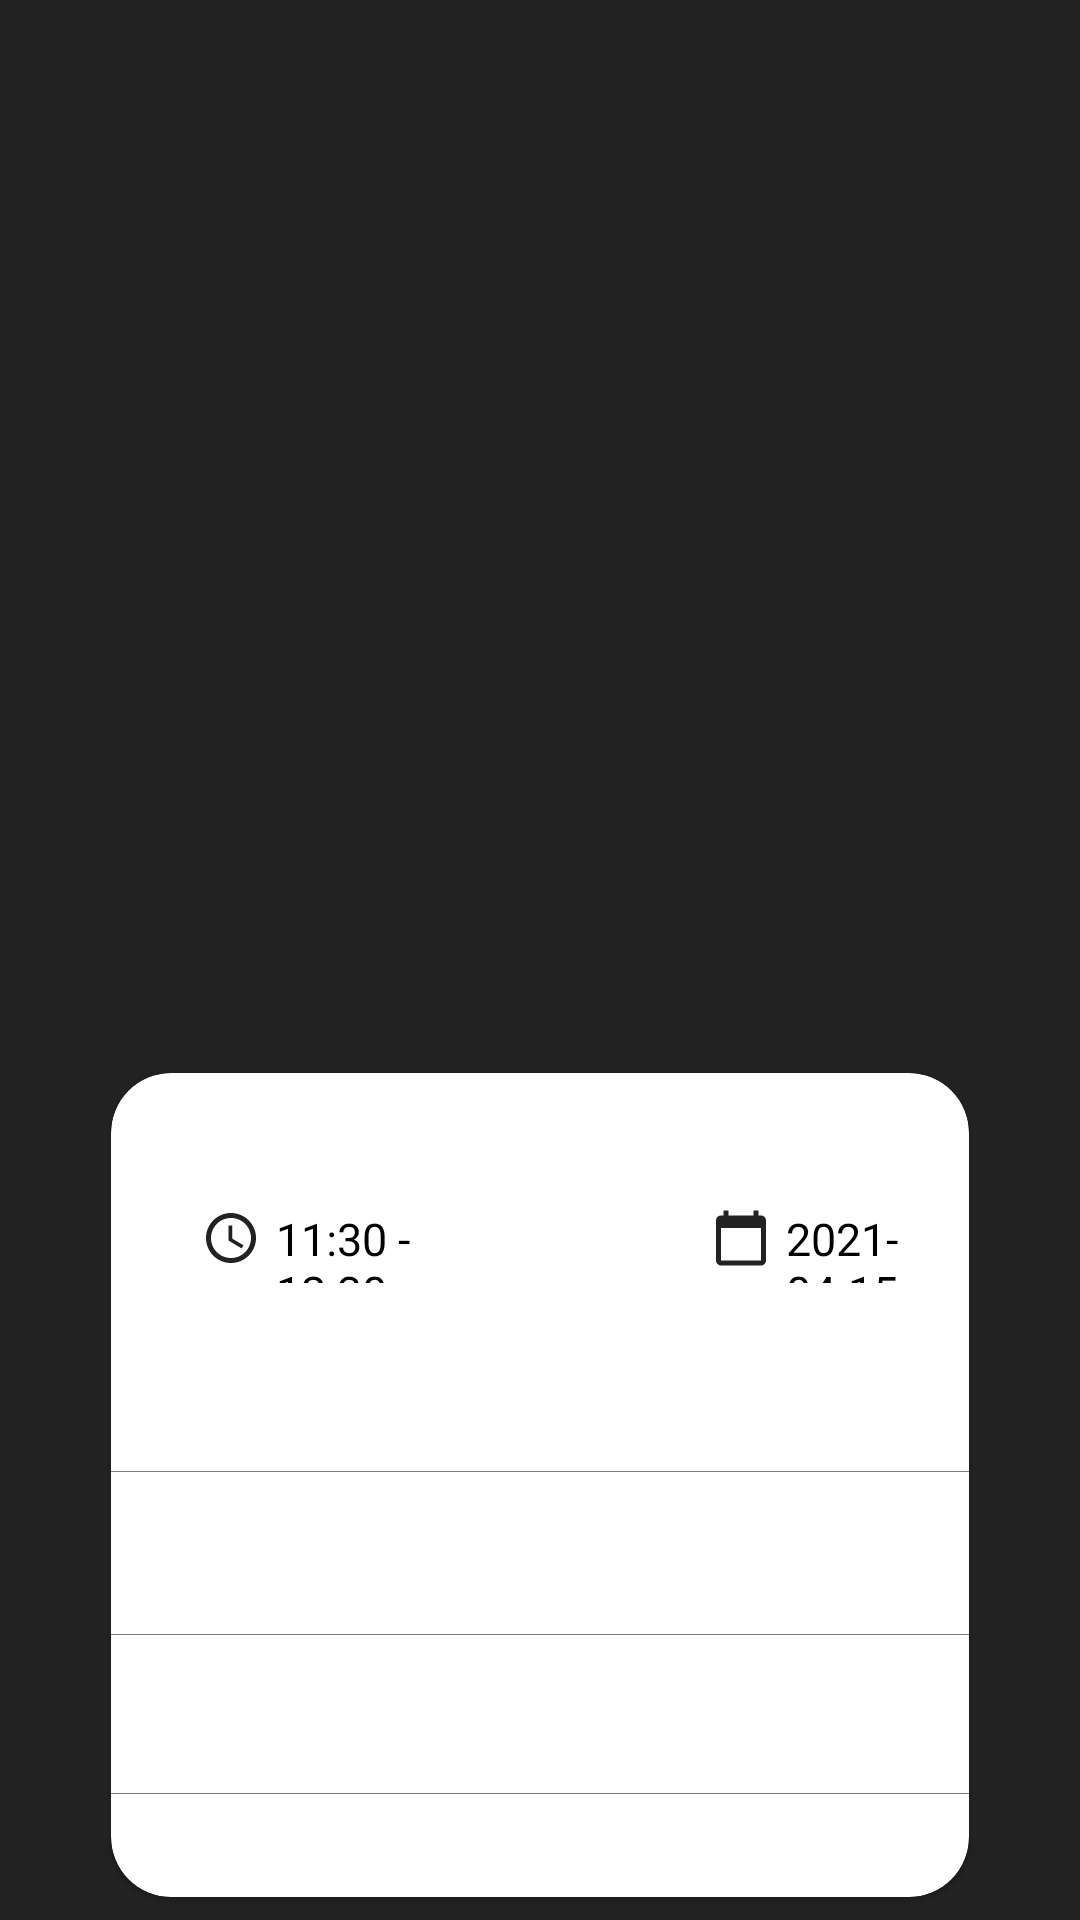

Icon bounding boxes for this 1080px x 1920px phone screenshot, format (x1, y1, x2, y2):
access time: (206, 1213, 256, 1263)
calendar today: (716, 1210, 766, 1266)
